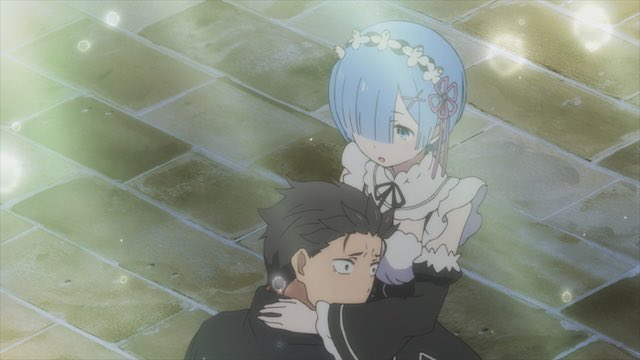rem: (328, 21, 473, 358)
